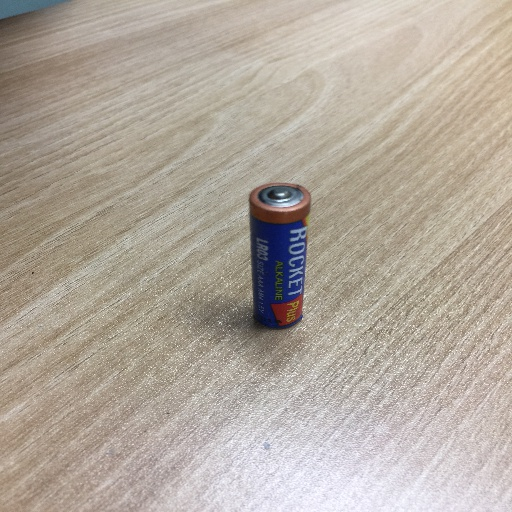Battery_0: (236, 169, 325, 344)
